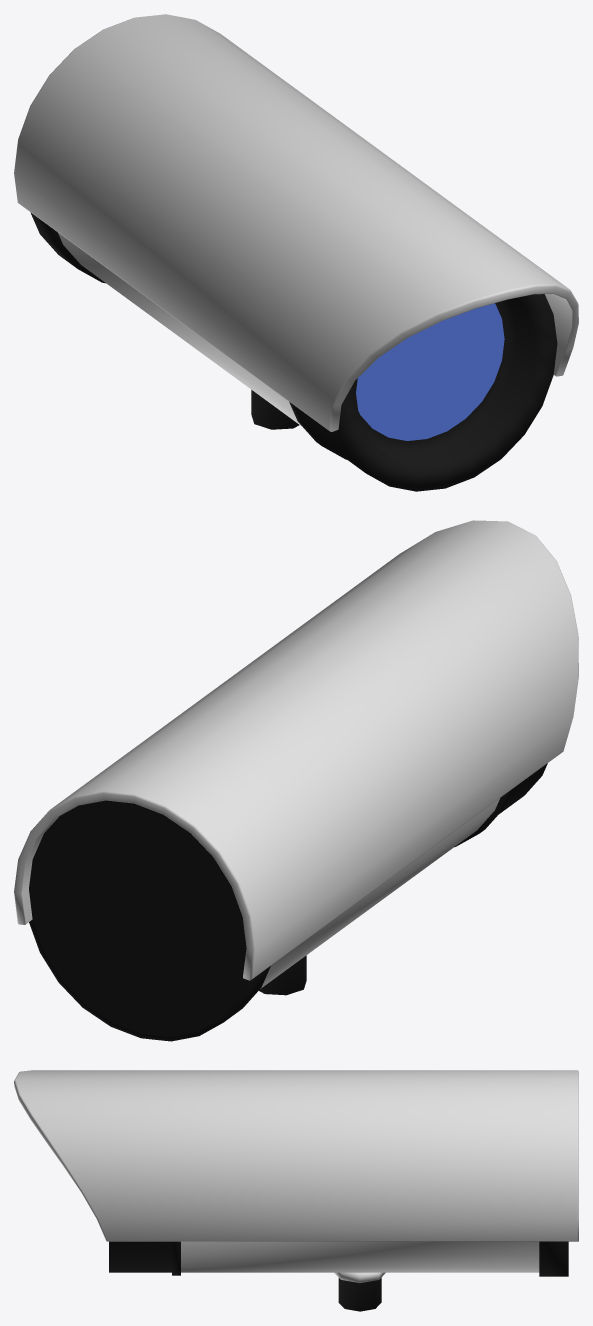
File: CC_Camera.glb
3 renders of one model, top to bottom at view 1: azimuth 30°, elevation 25°; view 2: azimuth 150°, elevation 25°; view 3: azimuth 270°, elevation 25°, orthographic. The views are drawn at different scales.
Parts seen in each view (by area): view 1: CC_Camera; view 2: CC_Camera; view 3: CC_Camera.
Boxes of the visible parts, box(x1,y1,x2,y2) form: CC_Camera: box(14, 14, 578, 491); CC_Camera: box(14, 520, 578, 1041); CC_Camera: box(14, 1070, 578, 1311).
Size of the model in its own units: 0.155 by 0.1807 by 0.4154.
